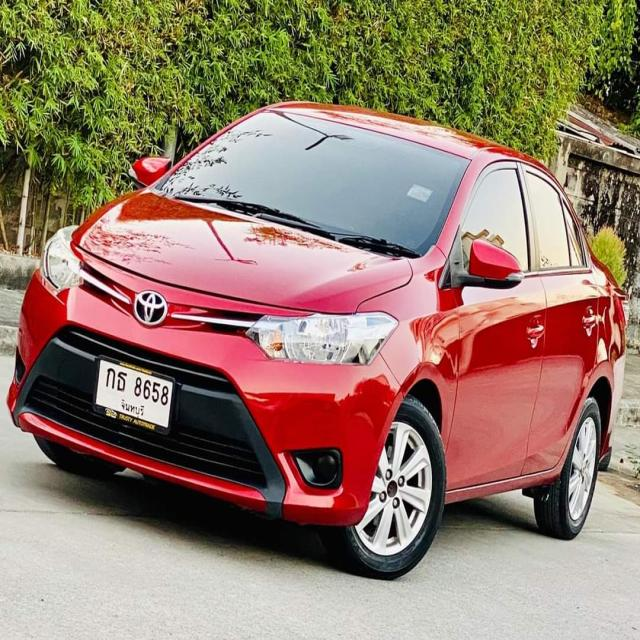license_plate: (88, 351, 181, 444)
